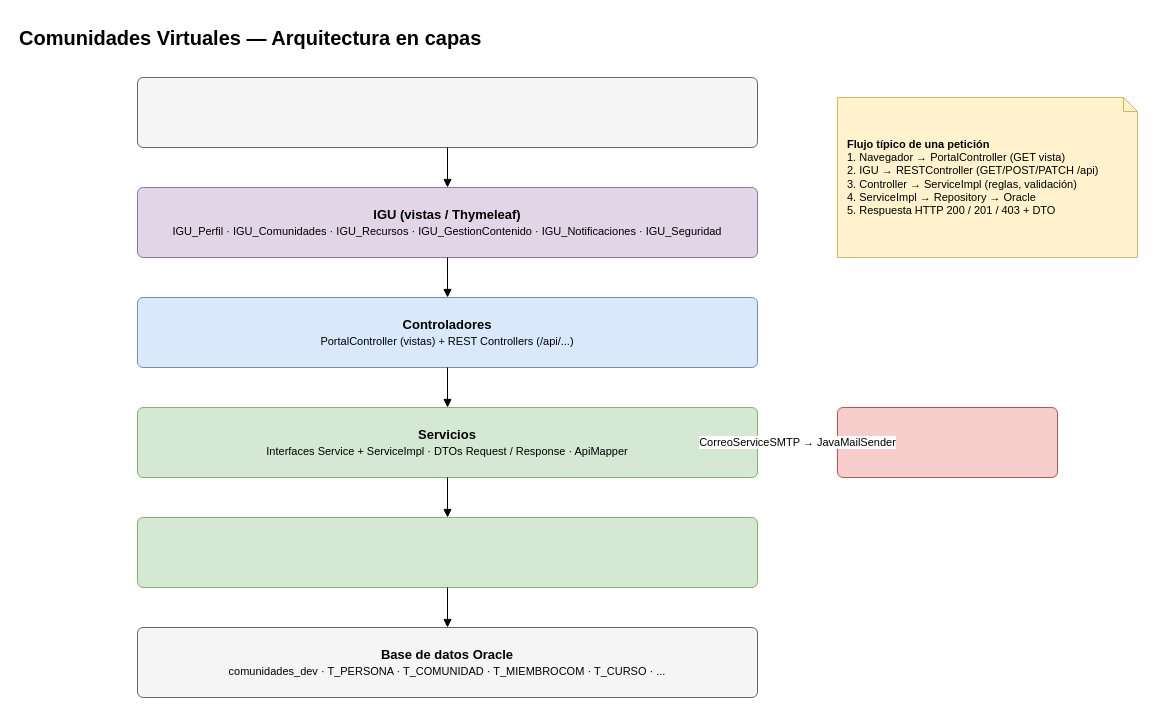
Some shapes in this 1155 by 715 pixel diagram are drawn without their labels. Here are the shapes that lost their labels. From the top down, the centre of each, then its label:
[447,112]: Actores + Navegador Estudiante · Docente · Administrador
[947,442]: Servidor SMTP institucional «servicio externo»
[447,552]: Repositorios + Entidades Spring Data JPA: findById · findBy... · save
